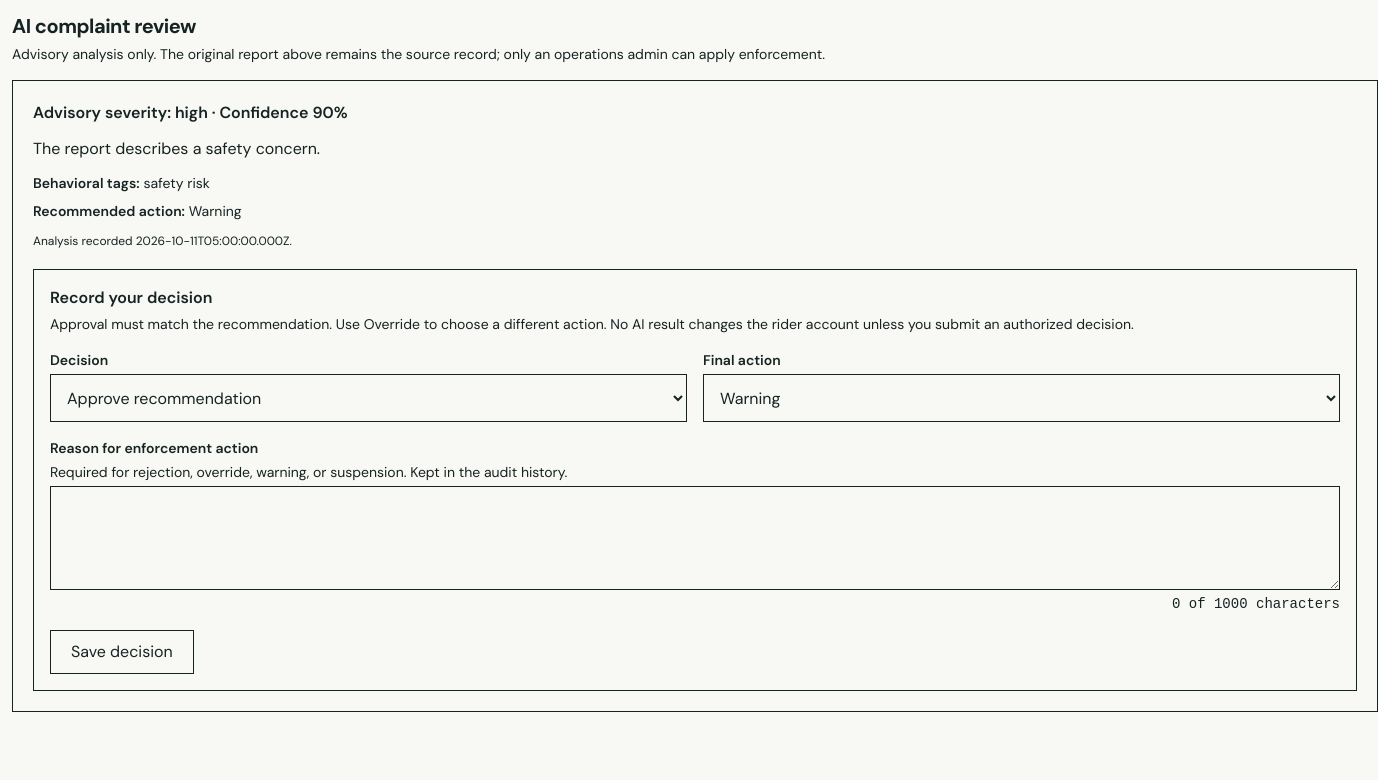
Test: AiComplaintReview (OA-FR-34, OA-FR-36, CS455-56, CS455-57) › requires a reason to reject an AI recommendation
Select "Reject recommendation" in the dropdown labelled "Decision" at coordinates (368, 398), box 50,374 -> 687,422
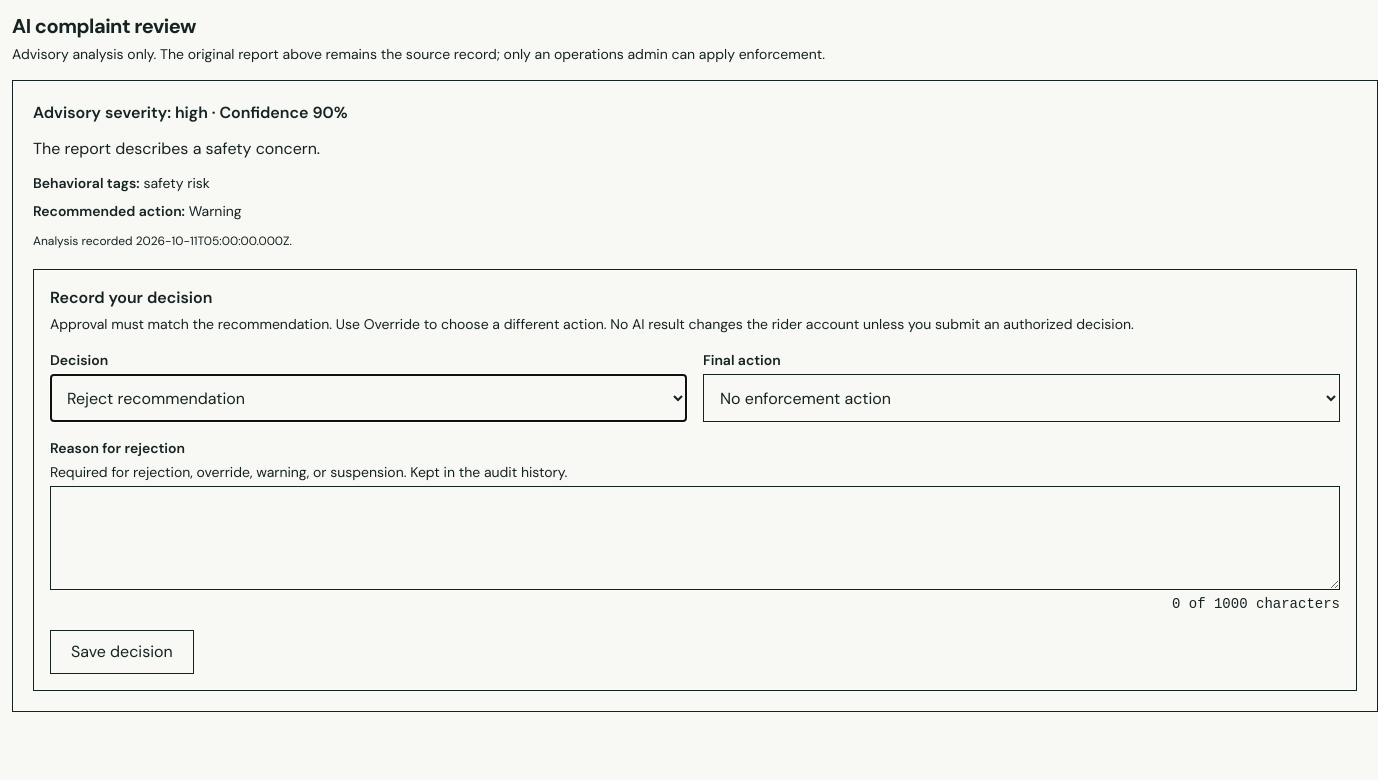
Click the button "Save decision".
click(122, 652)  # box 50,630 -> 194,674
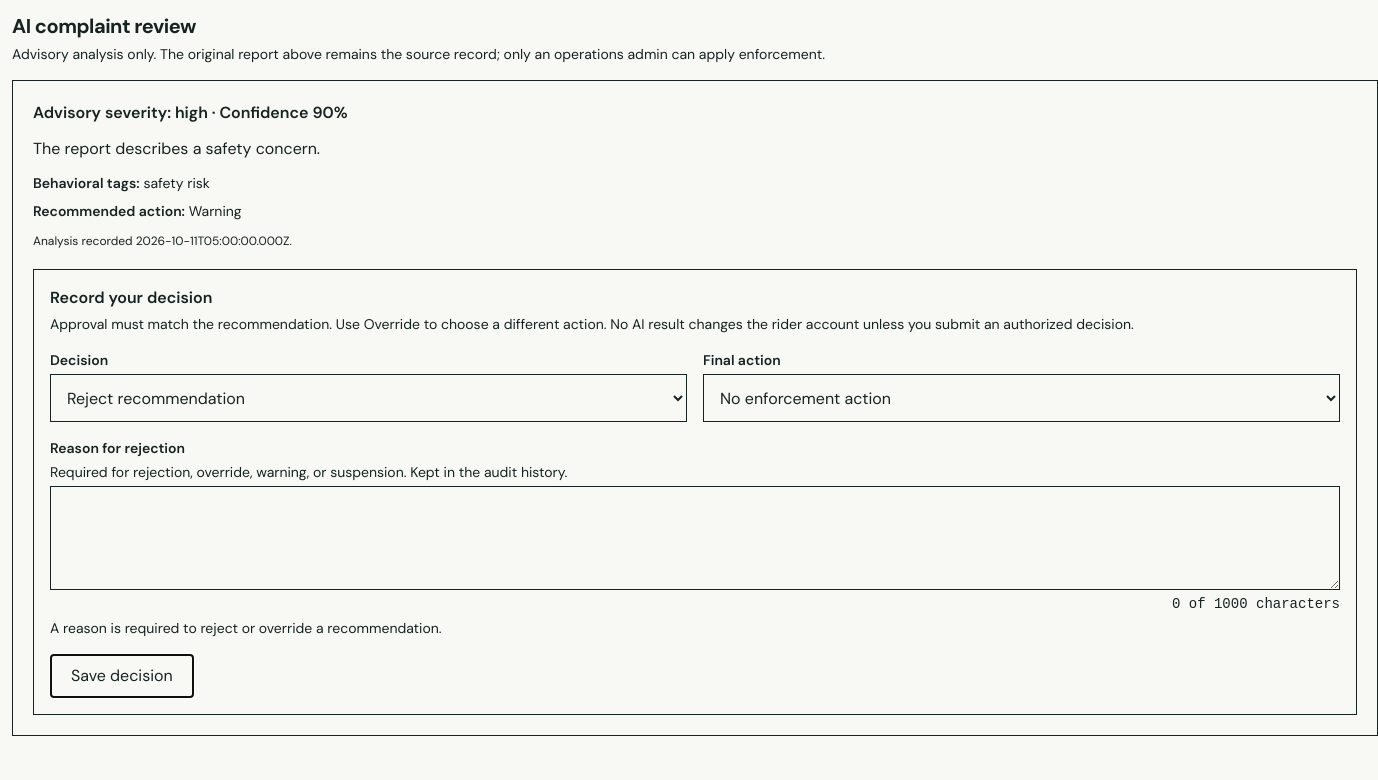
Result: the text "A reason is required to reject or override a recommendation." is shown at 50,619 -> 442,637
